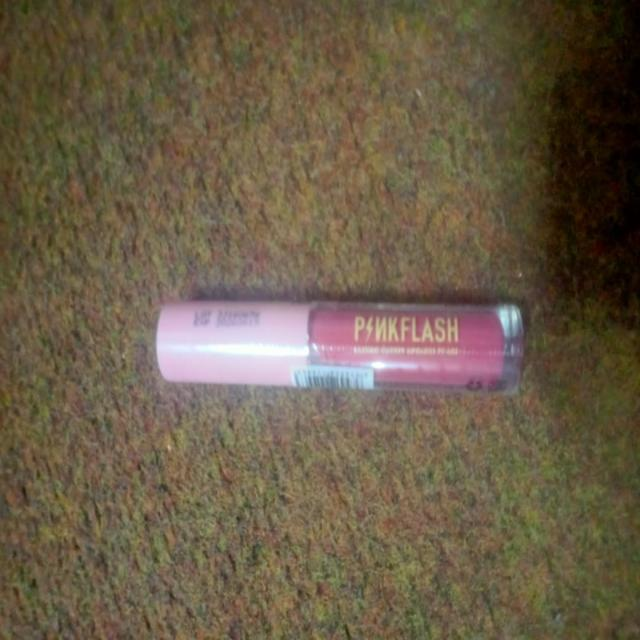lip gloss: (142, 276, 540, 424)
